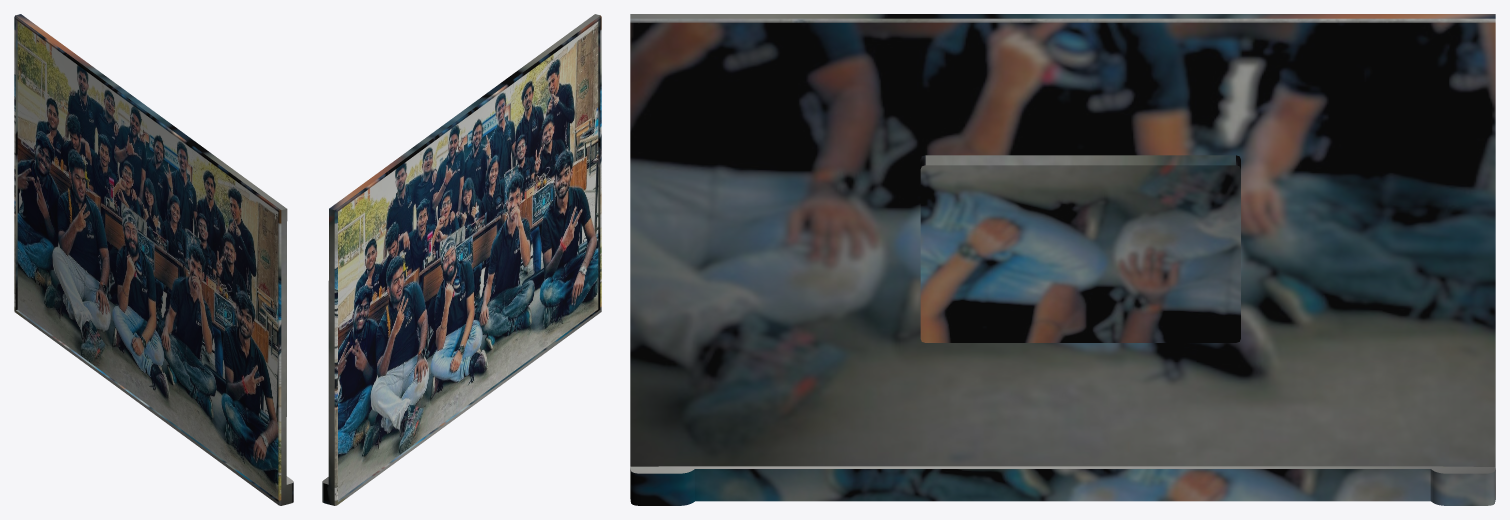
File: aws_TV_01_visual.DAE
The picture shows the model from 3 angles, left to right: view 1: azimuth 30°, elevation 25°; view 2: azimuth 150°, elevation 25°; view 3: azimuth 270°, elevation 25°; orthographic projection. The views are drawn at different scales.
Visible parts, largest first — view 1: aws_TV_01_visual; view 2: aws_TV_01_visual; view 3: aws_TV_01_visual.
Part boxes in pixels (left/top/right/bottom): aws_TV_01_visual: left=14, top=14, right=293, bottom=505; aws_TV_01_visual: left=322, top=14, right=601, bottom=505; aws_TV_01_visual: left=630, top=14, right=1495, bottom=505.
Size of the model in its own units: 5.5 by 130 by 79.54.
Materials: 1 (1 with a texture image).
